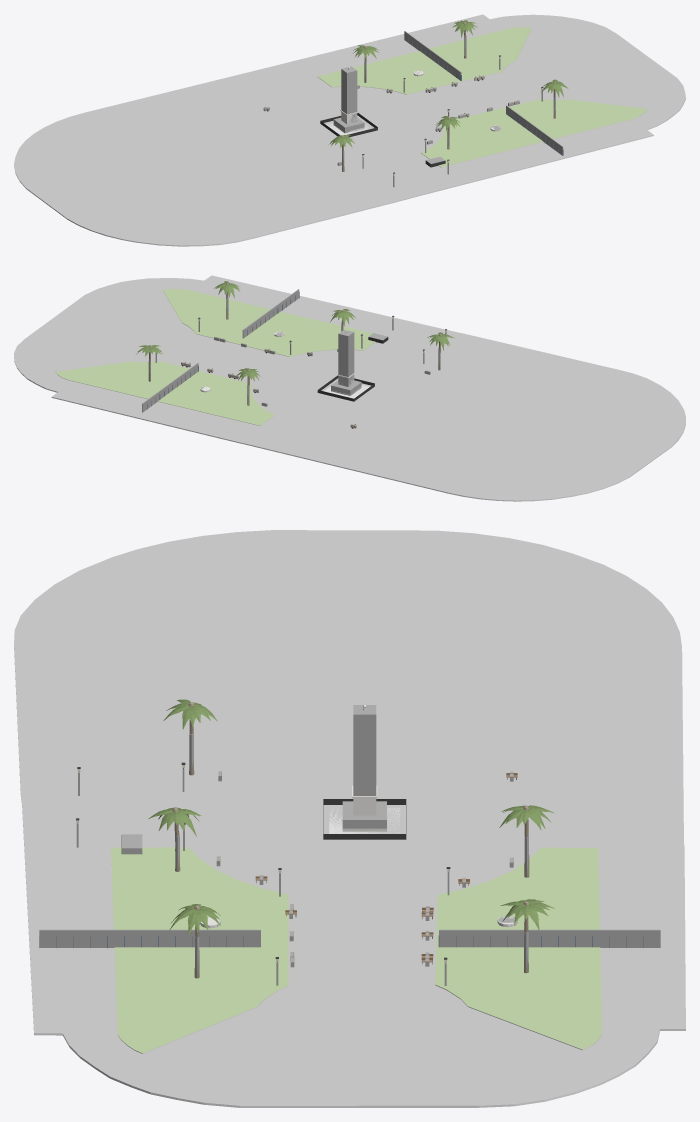
Rendered from chunk_03_02.glb.
3 views of the same model, one above another, from view 1: azimuth 30°, elevation 25°; view 2: azimuth 150°, elevation 25°; view 3: azimuth 270°, elevation 25° (orthographic). The views are drawn at different scales.
Parts seen in each view (by area): view 1: chunk_03_02_LOD0, chunk_03_02_COL; view 2: chunk_03_02_LOD0, chunk_03_02_COL; view 3: chunk_03_02_LOD0, chunk_03_02_COL.
Boxes of the visible parts, left/top/right/bottom form: chunk_03_02_LOD0: left=14, top=14, right=685, bottom=246; chunk_03_02_COL: left=263, top=31, right=563, bottom=187; chunk_03_02_LOD0: left=14, top=275, right=685, bottom=501; chunk_03_02_COL: left=142, top=289, right=446, bottom=428; chunk_03_02_LOD0: left=14, top=530, right=685, bottom=1107; chunk_03_02_COL: left=39, top=705, right=660, bottom=985.
Size of what is drawn, in the model's own units: 214 by 20.69 by 106.
